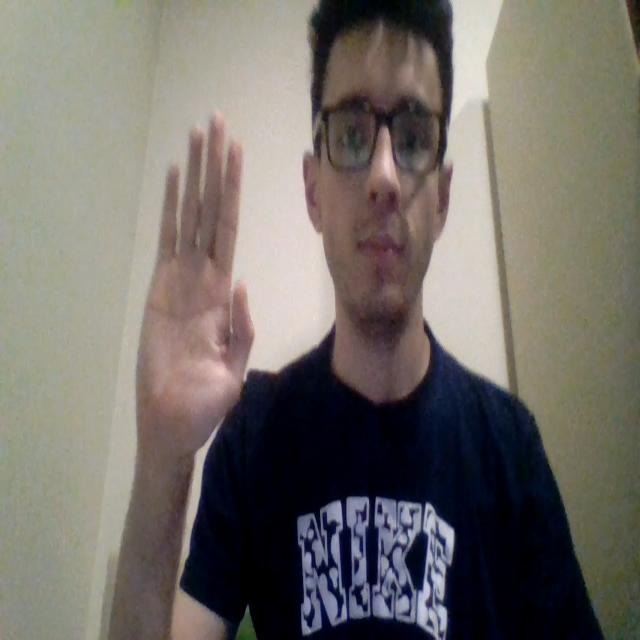hello: (134, 109, 255, 458)
